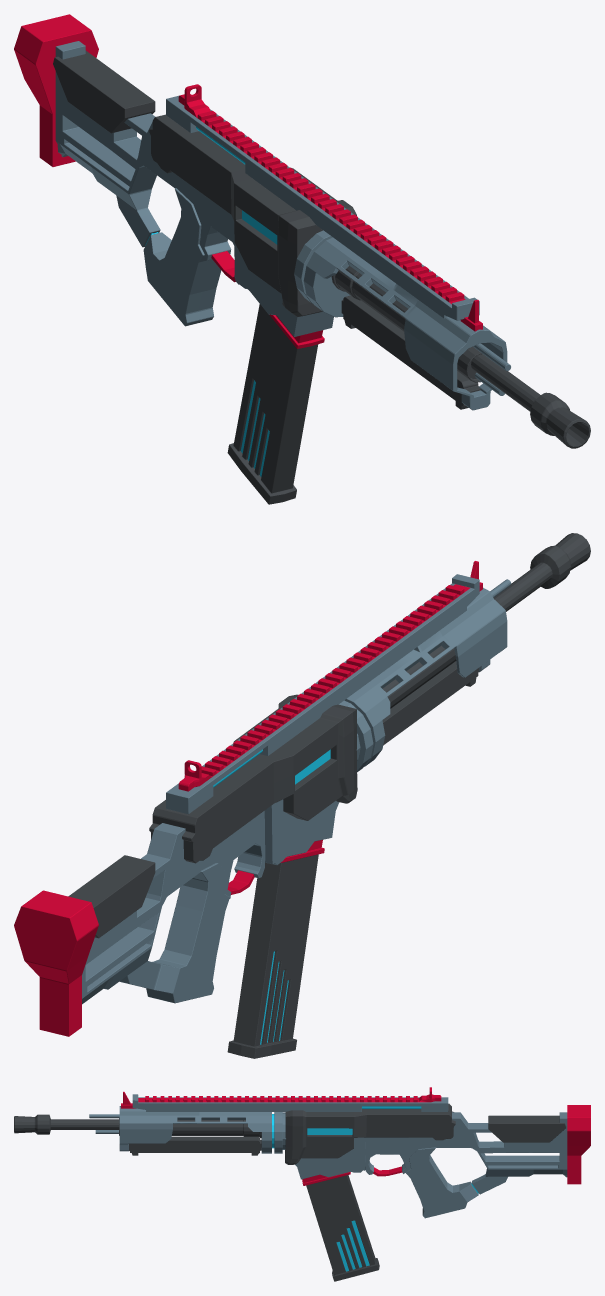
Rendered from future_gun1.fbx.
The picture shows the model from 3 angles, top to bottom: view 1: azimuth 30°, elevation 25°; view 2: azimuth 150°, elevation 25°; view 3: azimuth 270°, elevation 25°; orthographic projection. The views are drawn at different scales.
Parts seen in each view (by area): view 1: future_gun1; view 2: future_gun1; view 3: future_gun1.
Part boxes in pixels (<box>): future_gun1: <box>14,14,590,504</box>; future_gun1: <box>14,533,590,1058</box>; future_gun1: <box>14,1087,590,1281</box>.
Bounding box in the file's own units: 5.26 × 24.35 × 67.01.
Materials: 1 (1 with a texture image).
